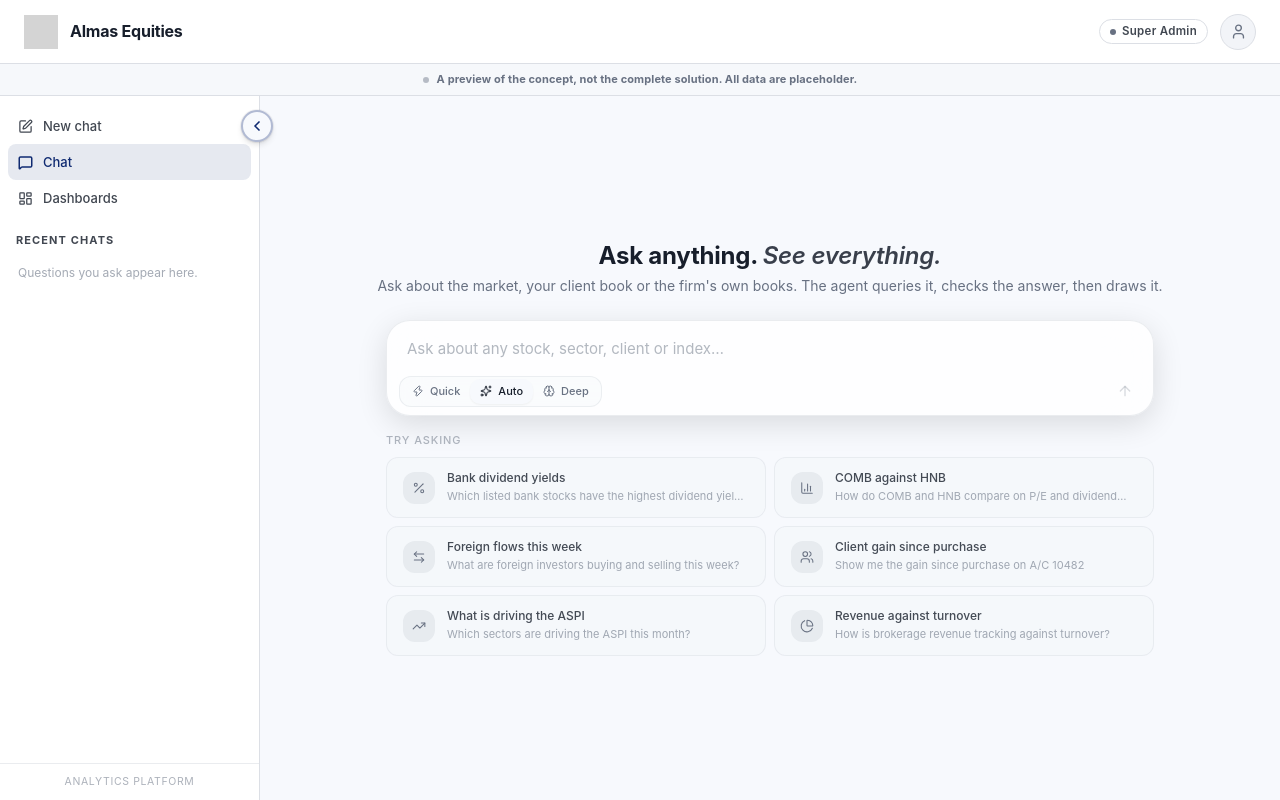
it: chat › types the clicked question into the composer before sending
Click the button "highest dividend yield" at x=576, y=488, box top-left (386, 457), bottom-right (766, 518)
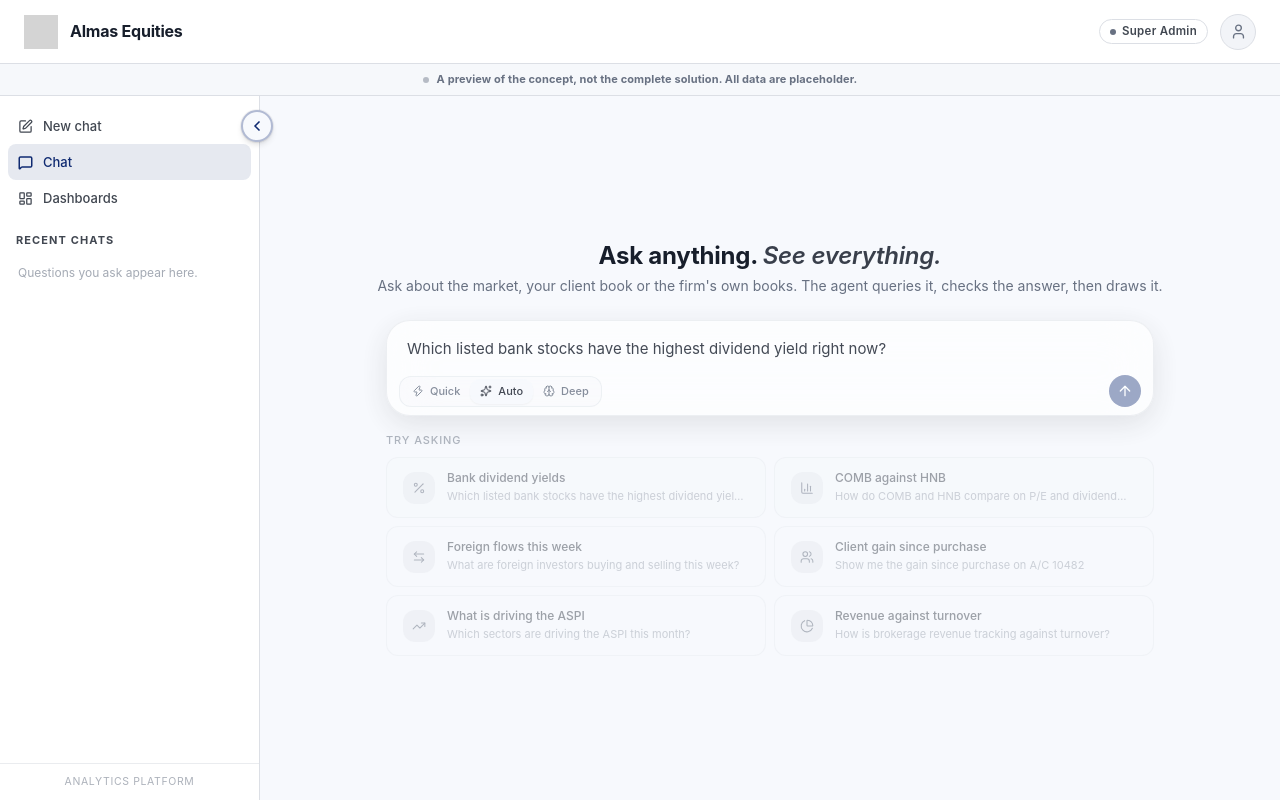
Expected: the text box with placeholder "Ask about any stock, sector, client or index…" holds "Which listed bank stocks have the highest dividend yield right now?", top-left (395, 329), bottom-right (1145, 365)
